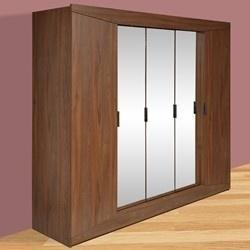Armario: (25, 2, 235, 246)
